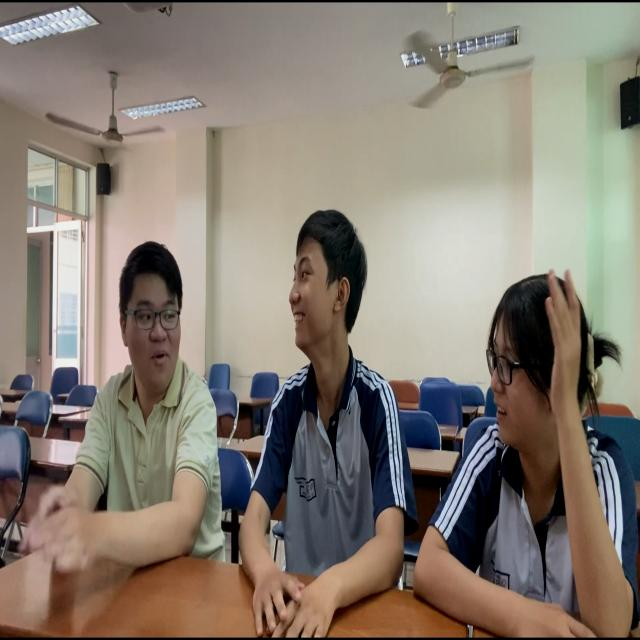raise_hand: (418, 271, 640, 640)
